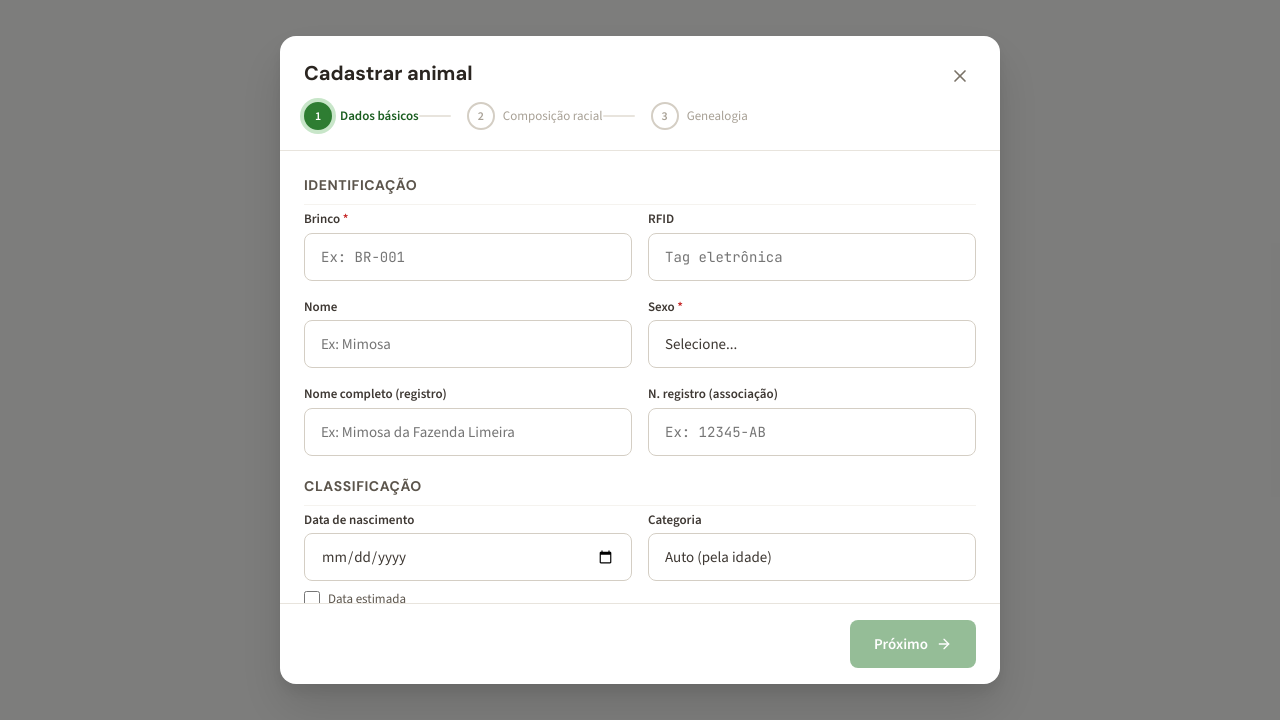
Test: CreateAnimalModal › should enable Próximo when earTag and sex are filled
This screenshot has width=1280, height=720.
Type "BR-001" into the field labelled "Brinco *". click: (468, 256)
box: 304,232 -> 632,280
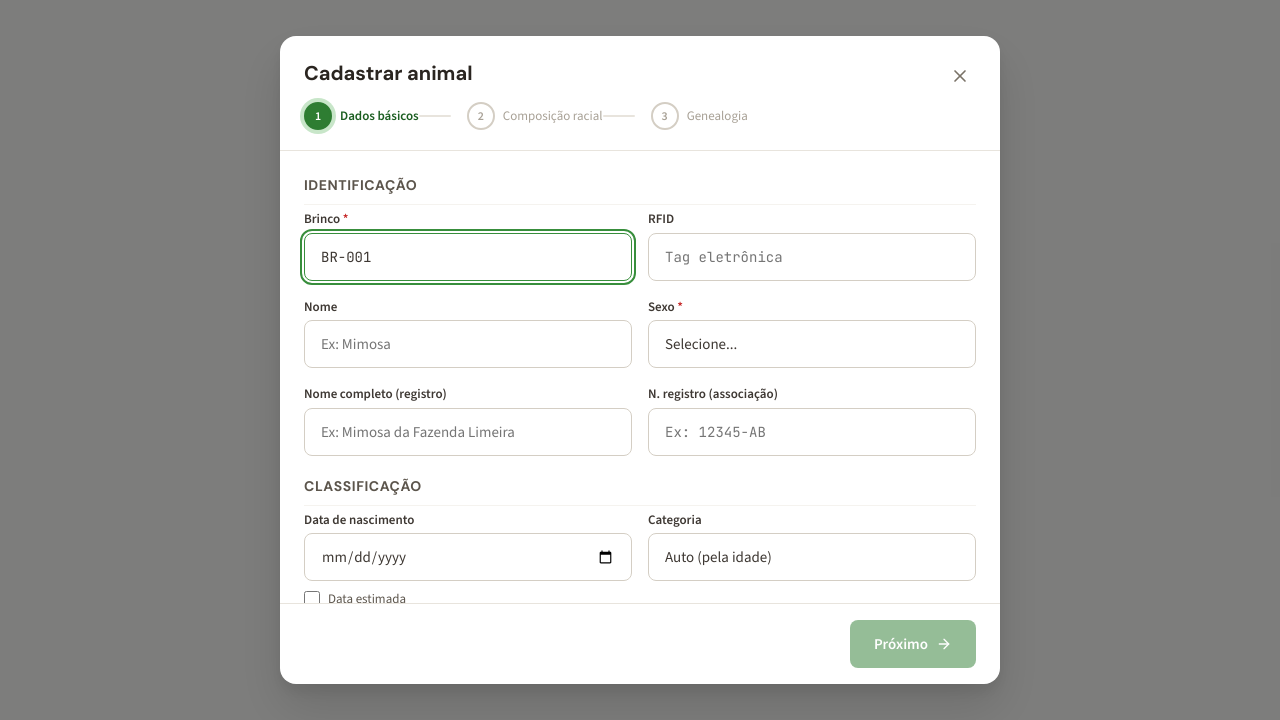
Select "Fêmea" in the dropdown labelled "Sexo *". click: (812, 344)
box: 648,320 -> 976,368
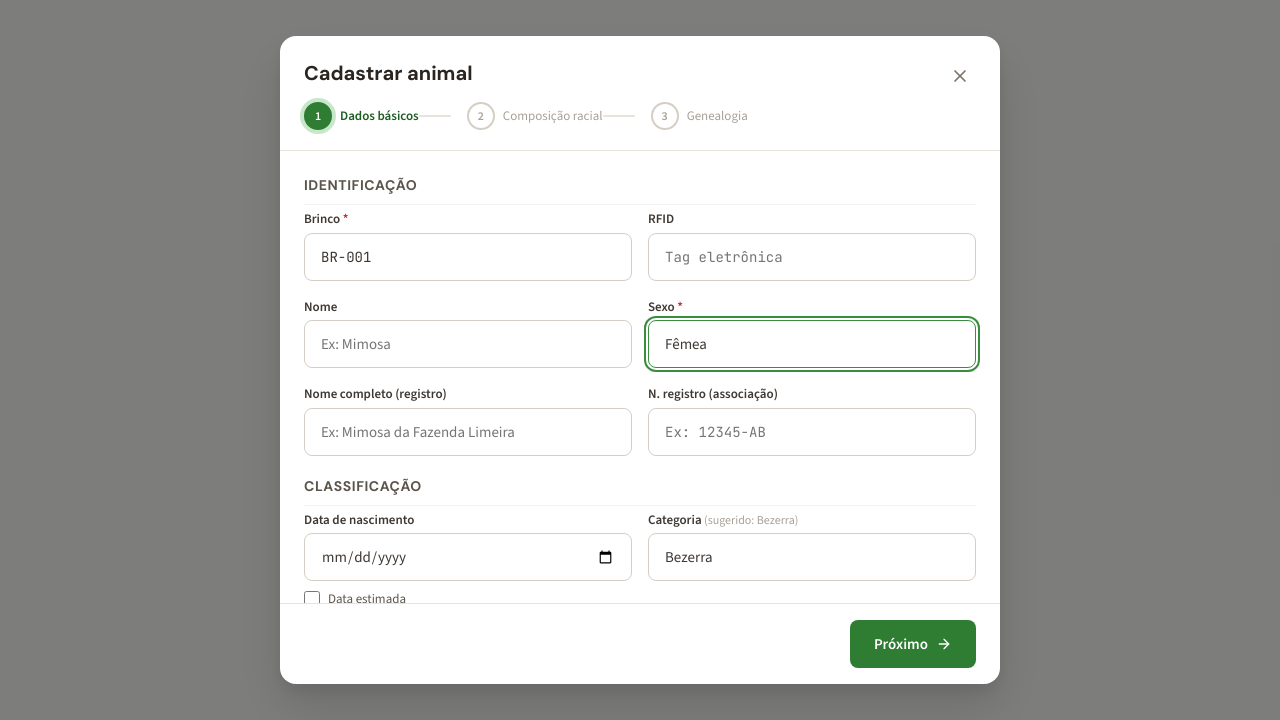
Result: the button "Próximo" is enabled at 850,620 -> 976,668
